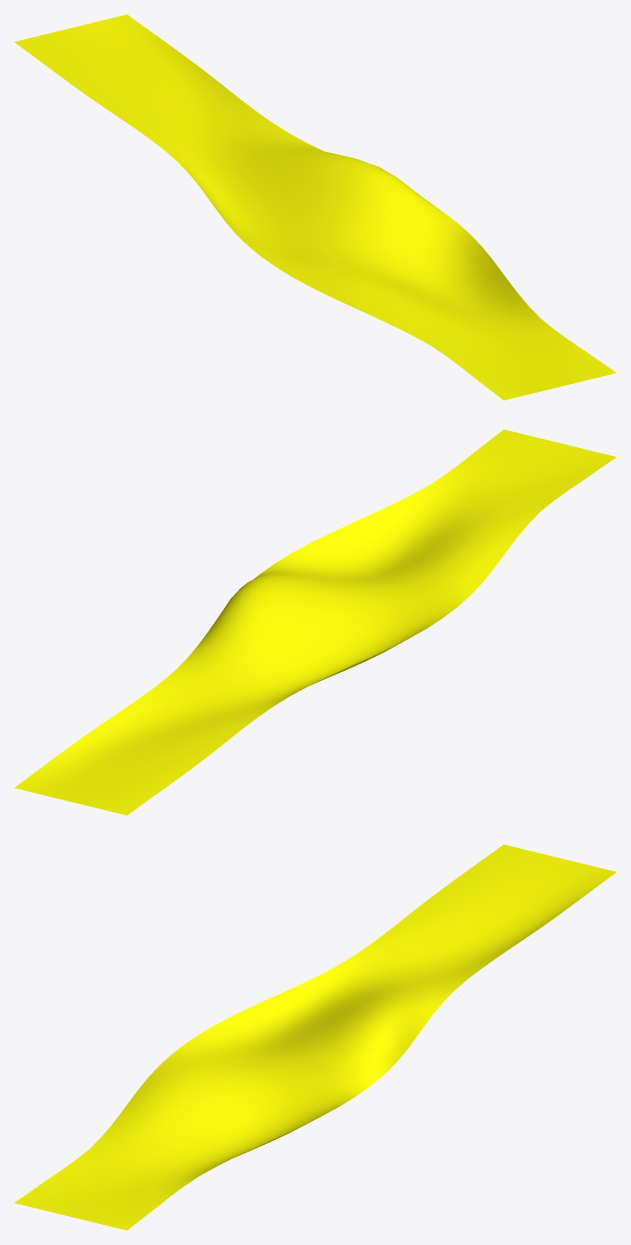
The model's file is Rhino-yellow.FBX.
3 renders of one model, top to bottom at view 1: azimuth 30°, elevation 25°; view 2: azimuth 150°, elevation 25°; view 3: azimuth 330°, elevation 25°, orthographic.
Visible parts, largest first — view 1: Obj_008; view 2: Obj_008; view 3: Obj_008.
Boxes of the visible parts, x1,y1,x2,y2 form: Obj_008: (14, 14, 616, 400); Obj_008: (14, 429, 616, 815); Obj_008: (14, 844, 616, 1230).
Size of the model in its own units: 2572 by 602 by 11970.
